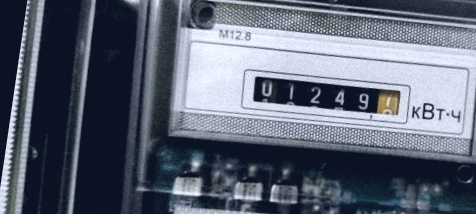0: (259, 77, 275, 99)
1: (284, 81, 296, 101)
2: (307, 84, 323, 106)
4: (332, 87, 346, 107)
7: (381, 89, 395, 109)
9: (355, 90, 371, 113)
screen: (231, 60, 411, 130)
